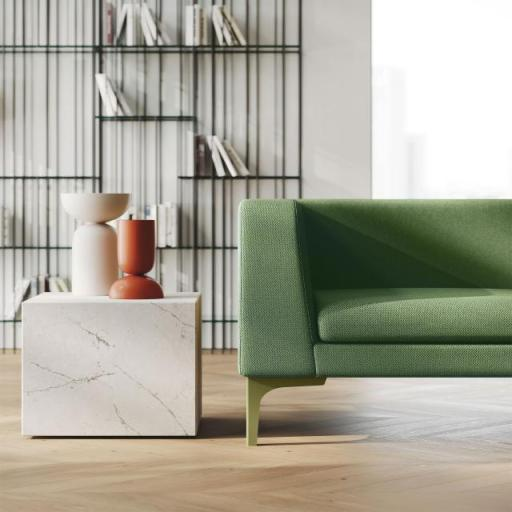sofa: (216, 152, 512, 422)
